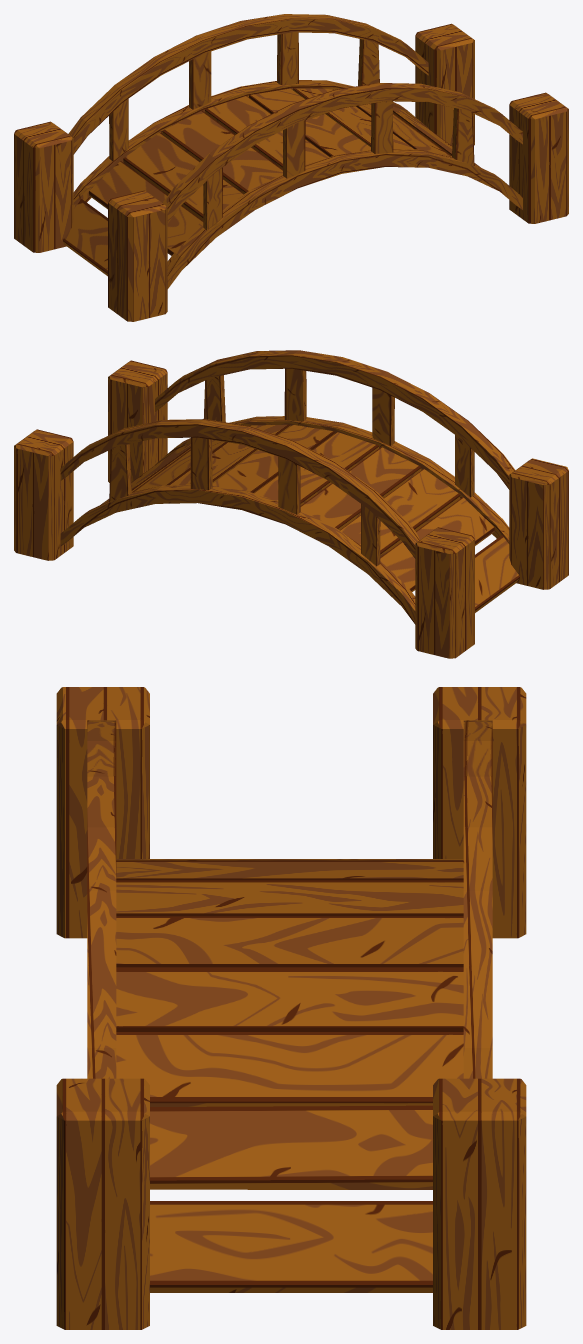
Rendered from Bridge.fbx.
The picture shows the model from 3 angles, top to bottom: view 1: azimuth 30°, elevation 25°; view 2: azimuth 150°, elevation 25°; view 3: azimuth 270°, elevation 25°; orthographic projection. The views are drawn at different scales.
Visible parts, largest first — view 1: Bridge; view 2: Bridge; view 3: Bridge.
Part boxes in pixels (<box>): Bridge: <box>14,14,568,321</box>; Bridge: <box>14,350,568,658</box>; Bridge: <box>56,687,526,1329</box>.
Bounding box in the file's own units: 7.05 × 3.25 × 2.57.
